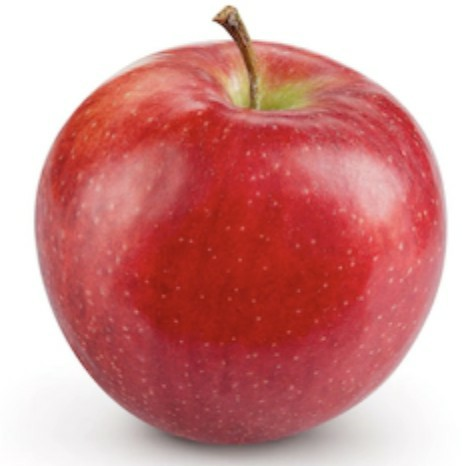fresh_apple: (26, 40, 451, 440)
